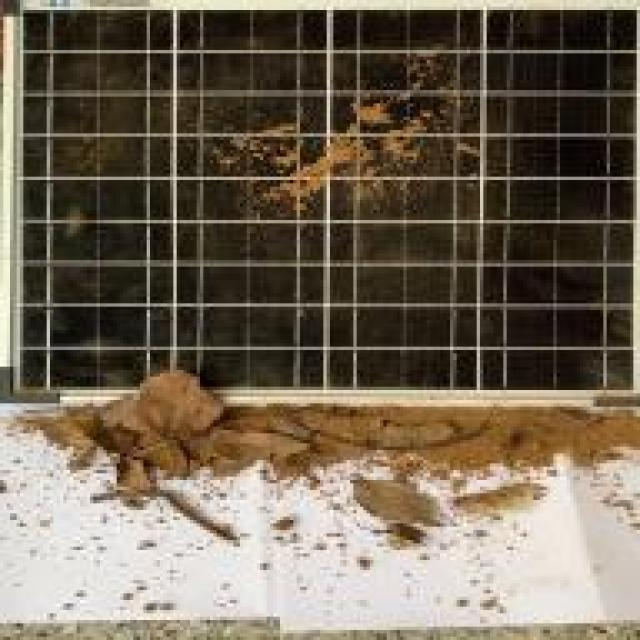dust-solar-panel: (0, 0, 640, 400)
